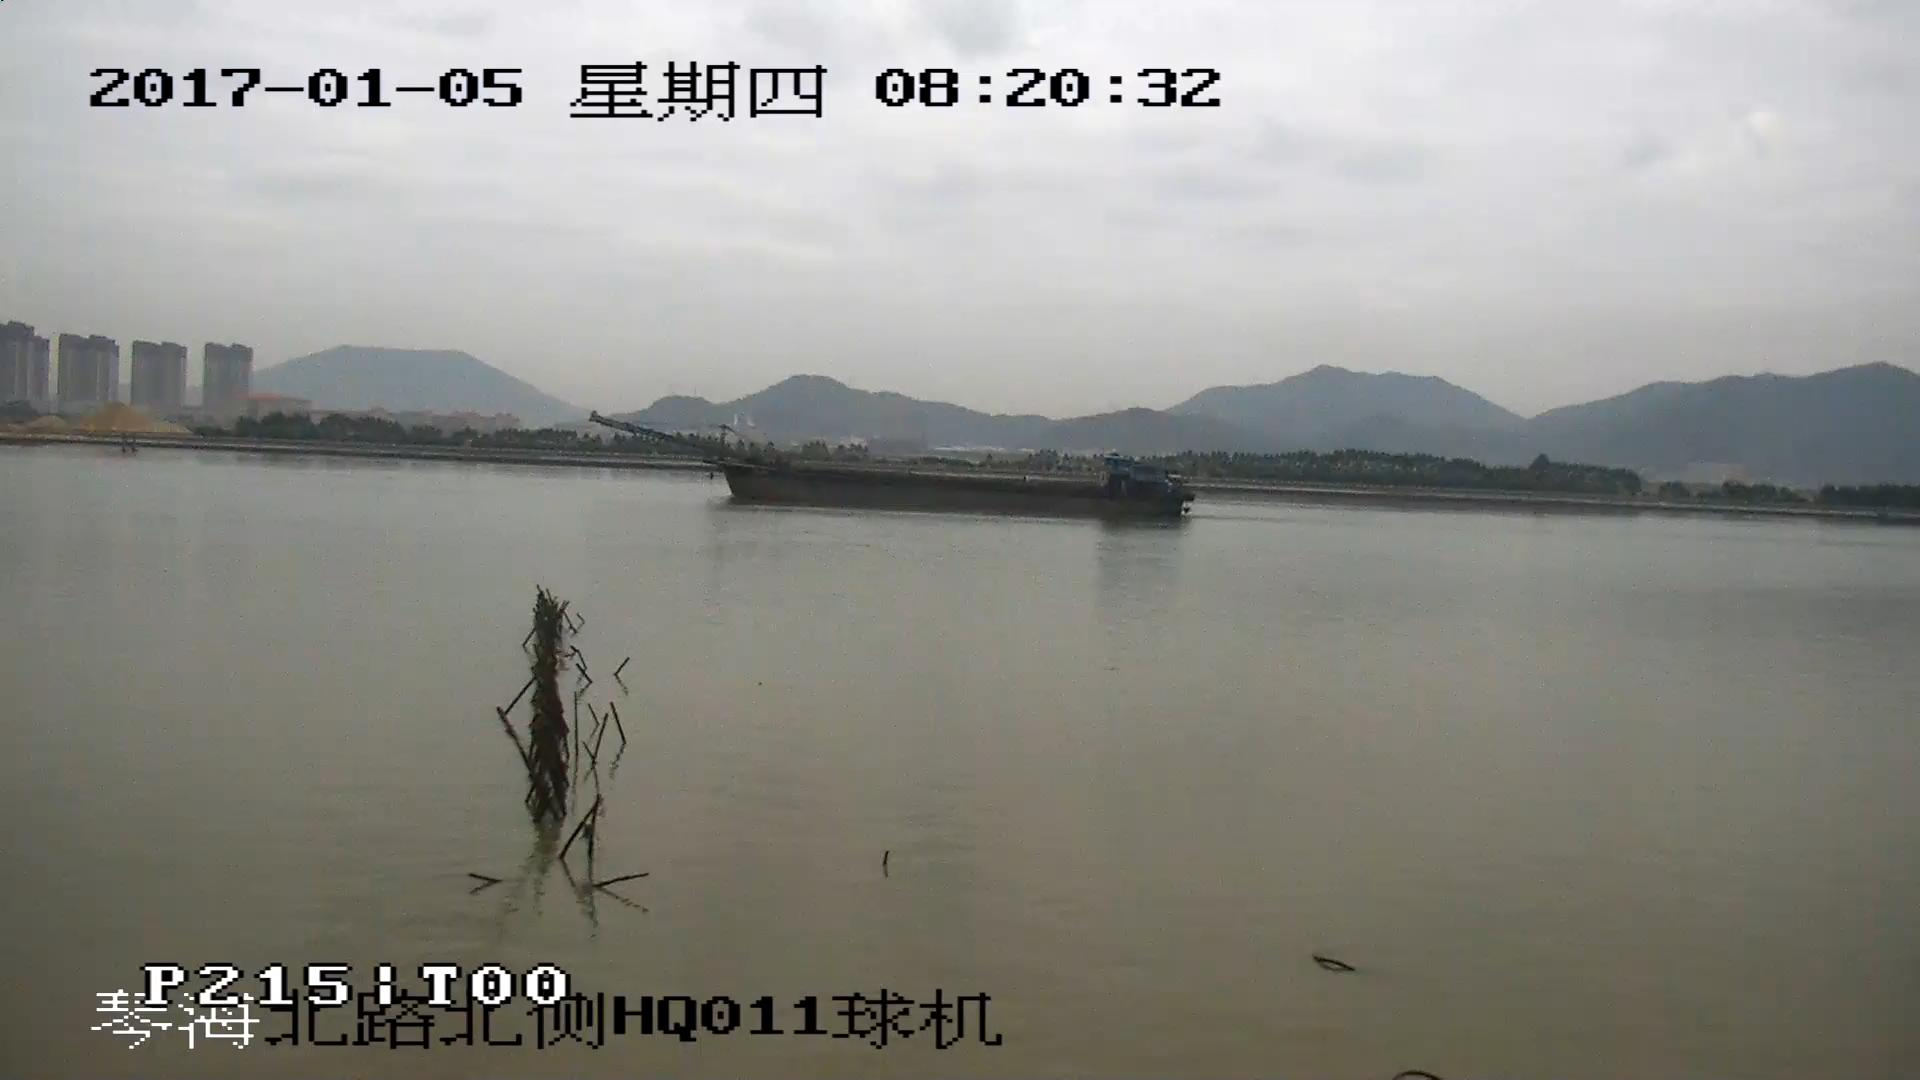bulk cargo carrier: (593, 419, 1195, 520)
